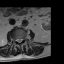CCS_stenosis: (18, 37, 20, 43)
LFS_stenosis: (22, 37, 24, 41)
LLS_normal: (20, 37, 22, 42)
RFS_normal: (14, 37, 16, 42)
RLS_normal: (16, 37, 18, 43)
